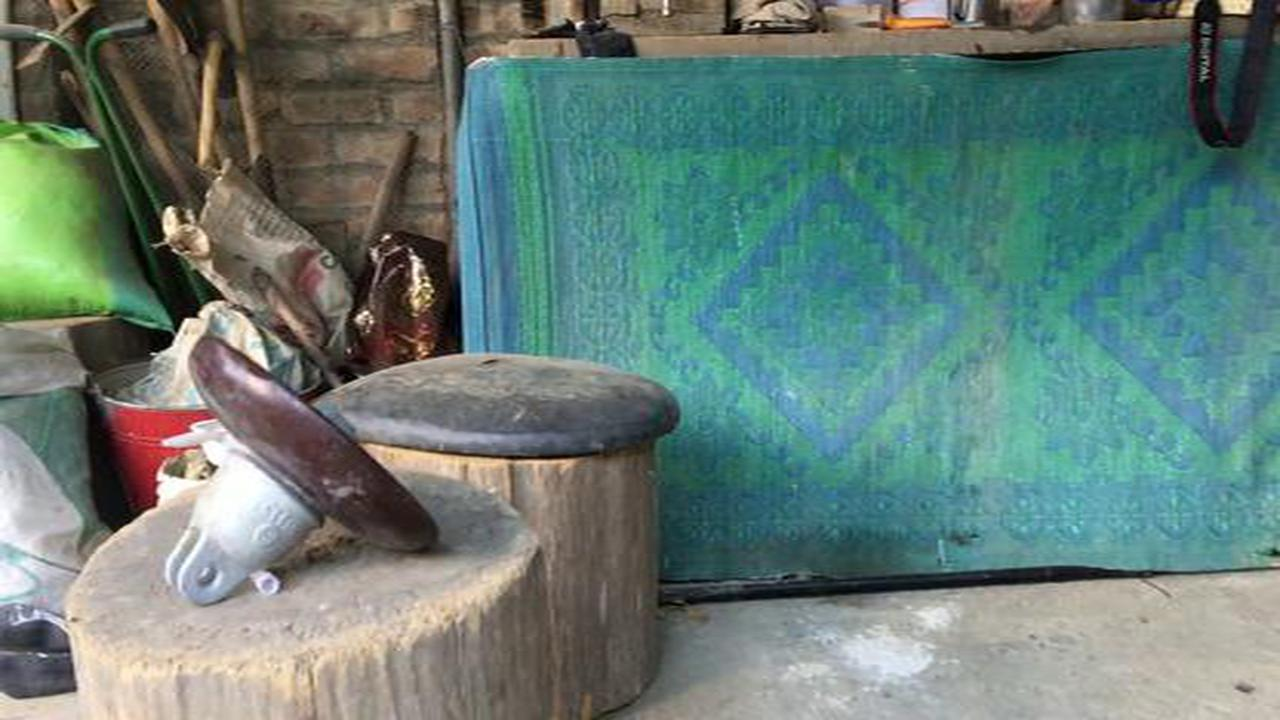insulator_disc: (157, 323, 451, 601)
